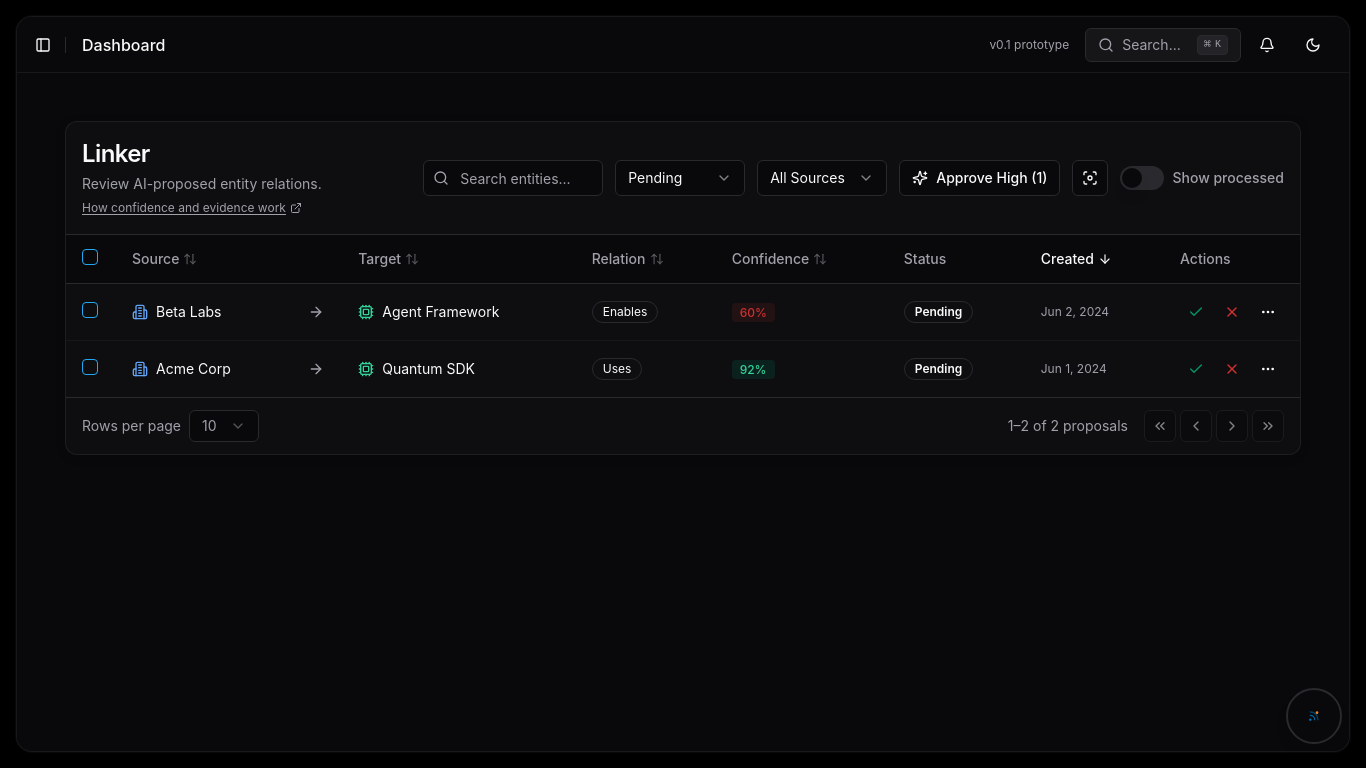
Scenario: LinkerTriagePage — library-table conventions › clears the selection (and hides the toolbar) via the toolbar X
The width and height of the screenshot is (1366, 768).
Expected: the text "Acme Corp" is shown, [156,358,231,378]
What coordinates should you click on to do the following:
click the checkbox named "Select Acme Corp → Quantum SDK"
I would click on:
 (90, 366)
Its box is [82,358,98,374].
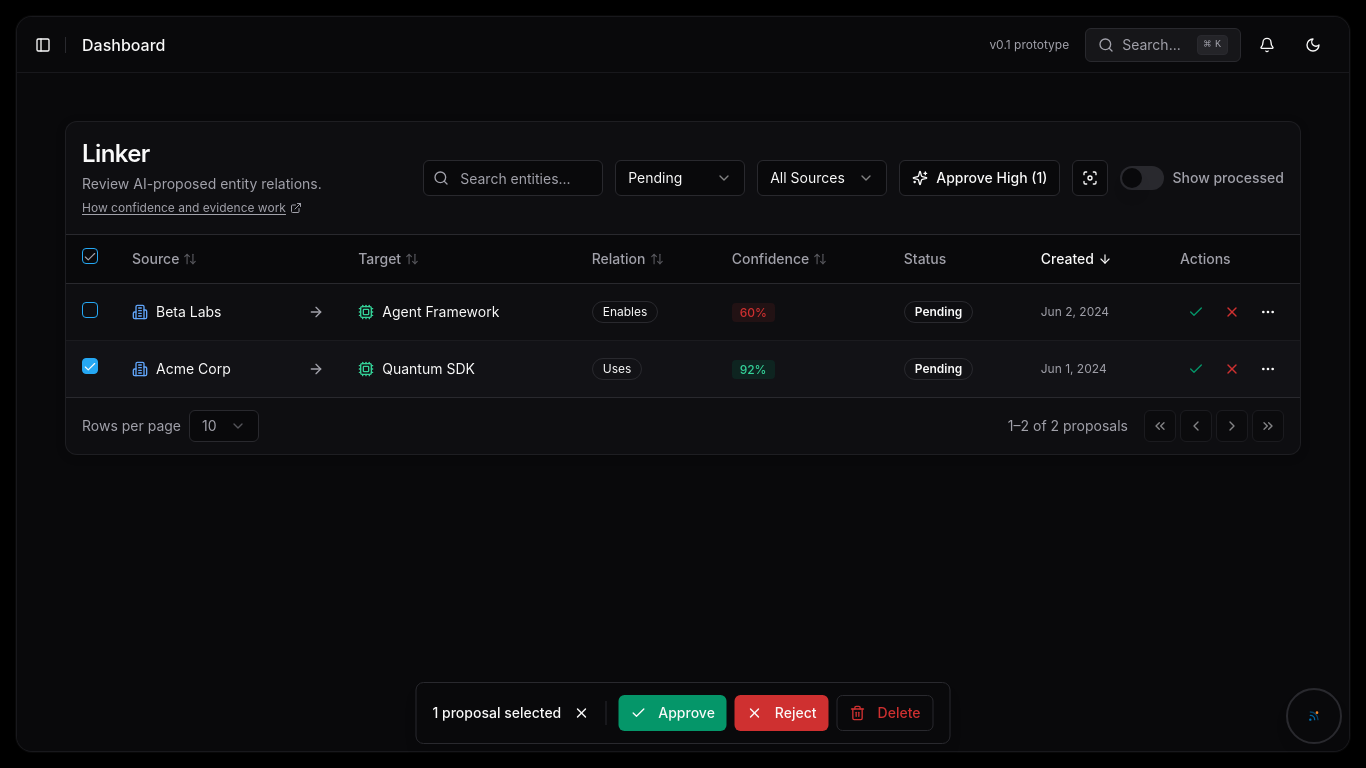
Result: the text "1 proposal selected" is shown at [432,703,561,723]
What coordinates should you click on to do the following:
click the button named "Clear selection"
I would click on:
 (581, 713)
Its box is [569,701,593,725].
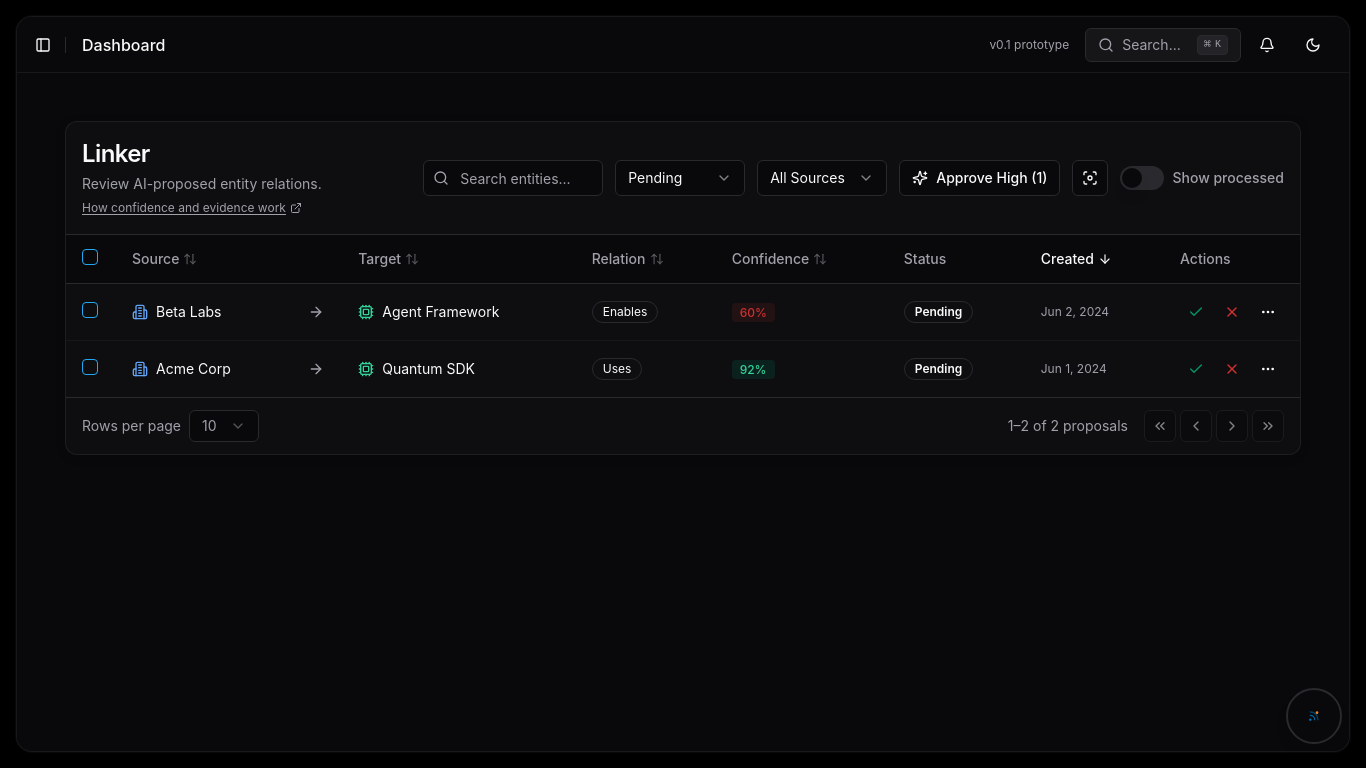
Result: the text "1 proposal selected" is gone
